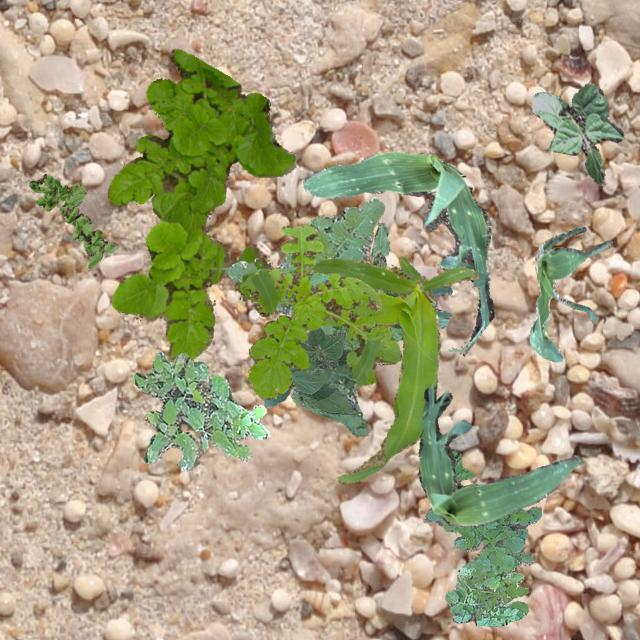crop: (302, 255, 478, 482), (302, 150, 492, 354), (418, 382, 582, 526), (528, 226, 612, 360), (530, 82, 622, 184), (262, 326, 354, 414), (384, 284, 451, 328), (371, 222, 388, 292)
weed: (107, 48, 296, 360), (225, 196, 403, 436), (238, 222, 400, 398), (424, 450, 540, 624), (132, 350, 268, 470), (28, 172, 118, 268)
